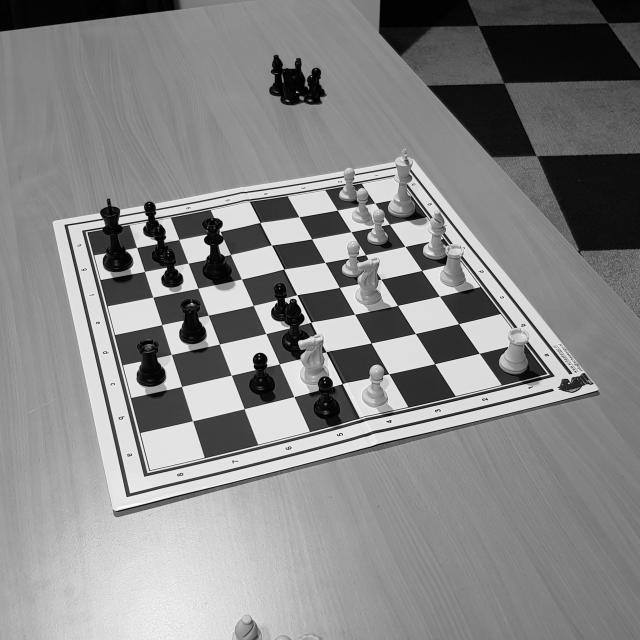chessboard: (83, 177, 553, 477)
